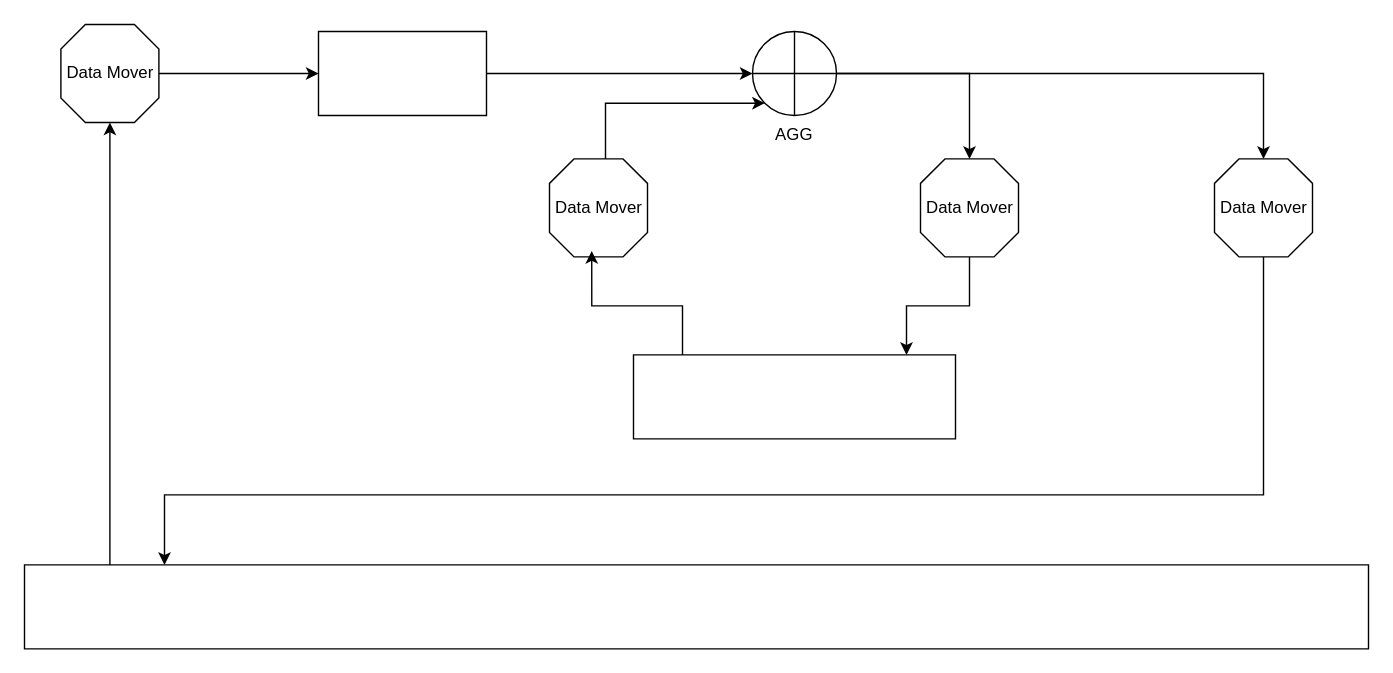
Some shapes in this 1393 by 673 pixel diagram are drawn without their labels. The shapes that lost their labels are listed below. From the top down, each one's box as (x1, y1, x2, y2) in pixels, then its label:
(317, 30, 486, 115): CONV_3_3
(632, 354, 955, 439): Buffer
(23, 564, 1368, 649): DRAM
